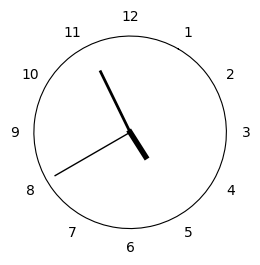12: (121, 8, 139, 24)
circle: (33, 37, 228, 230)
hours: (126, 129, 148, 159)
minutes: (99, 70, 129, 128)
seconds: (54, 133, 129, 177)
